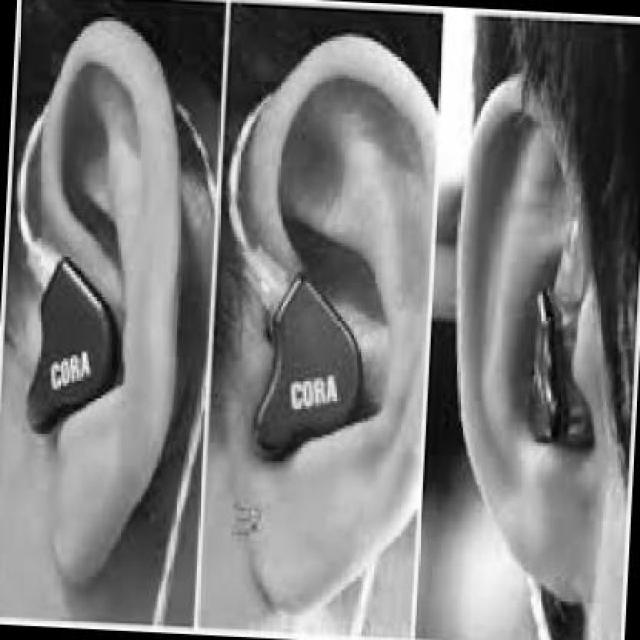earphone: (262, 264, 369, 489), (18, 260, 130, 426), (520, 288, 607, 472)
